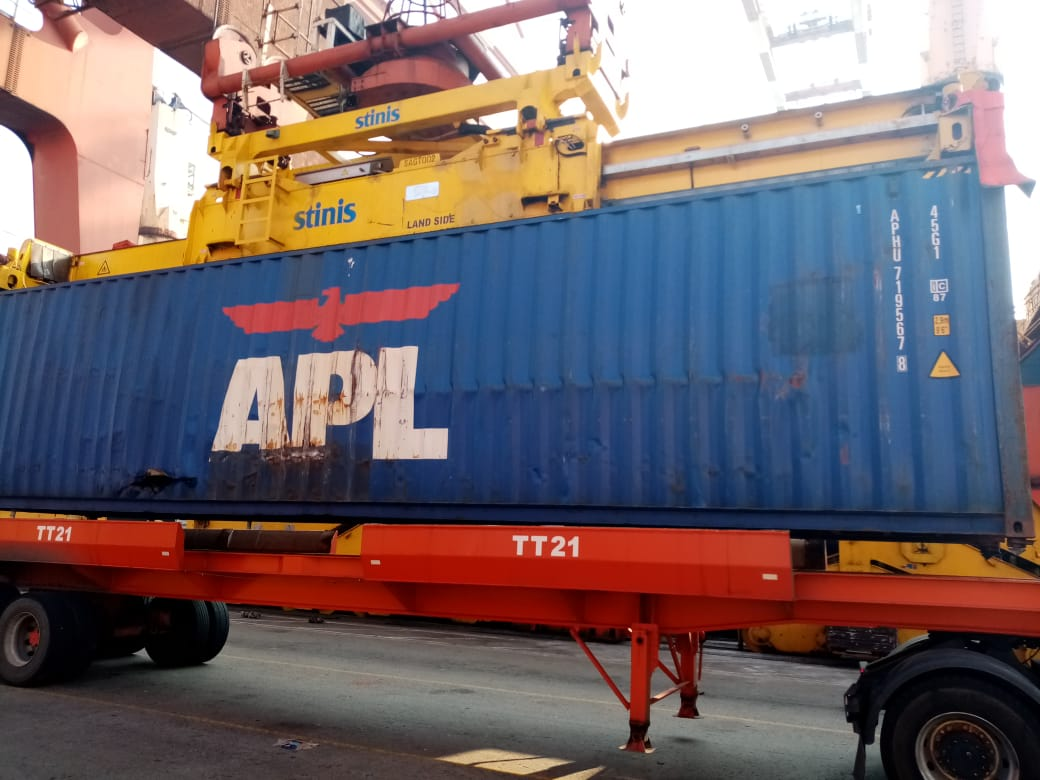cut: (91, 454, 237, 500)
dented: (274, 349, 832, 428)
